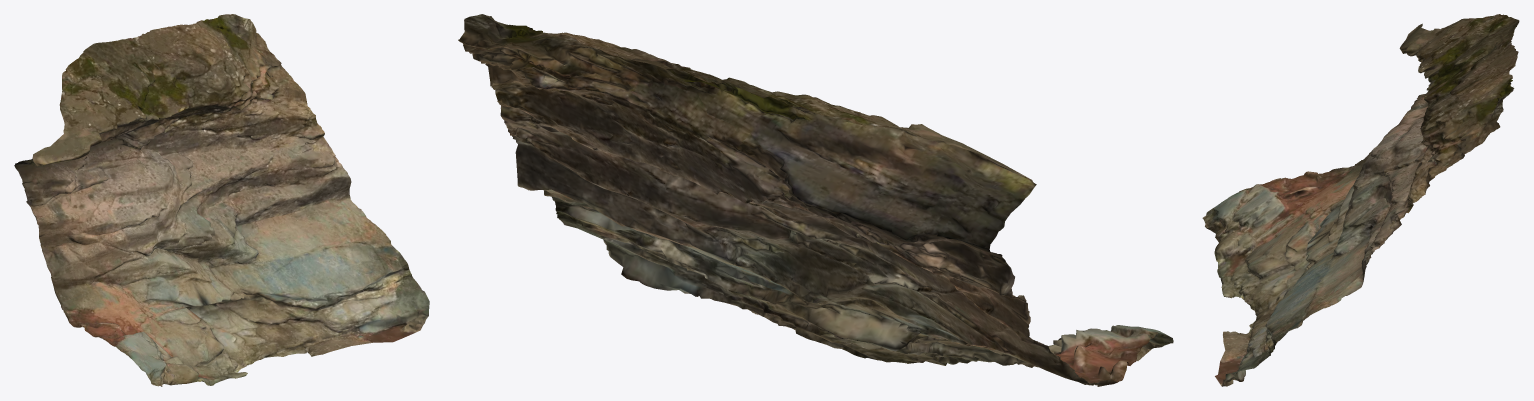
File: rock_face.glb
The picture shows the model from 3 angles, left to right: view 1: azimuth 30°, elevation 25°; view 2: azimuth 150°, elevation 25°; view 3: azimuth 270°, elevation 25°; orthographic projection. The views are drawn at different scales.
Parts seen in each view (by area): view 1: rock_face_01; view 2: rock_face_01; view 3: rock_face_01.
Part boxes in pixels (x1=…): rock_face_01: x1=14, y1=14, x2=429, y2=386; rock_face_01: x1=458, y1=14, x2=1173, y2=386; rock_face_01: x1=1202, y1=14, x2=1519, y2=386.
Bounding box in the file's own units: 4.95 × 3.56 × 3.83.
Materials: 1 (1 with a texture image).
